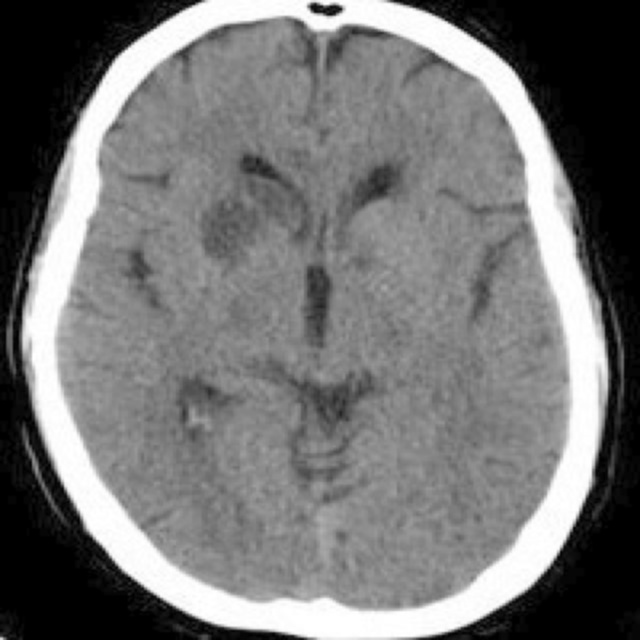glioma tumor: (150, 66, 490, 571)
